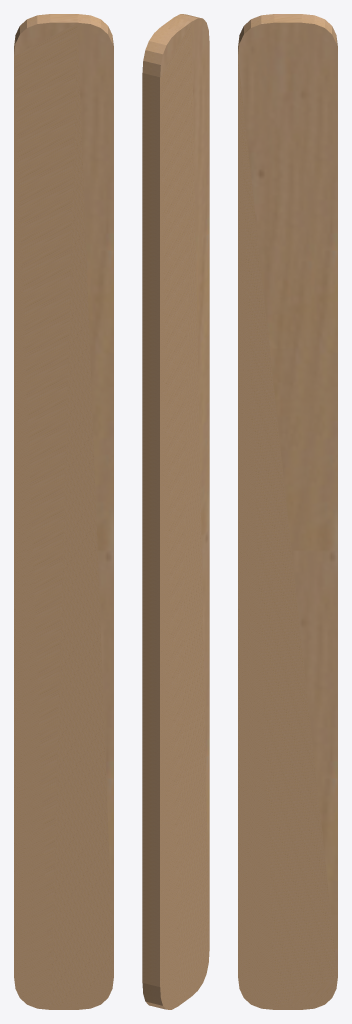
The model's file is PogoStick.FBX.
3 views of the same model, side by side, from view 1: azimuth 90°, elevation 25°; view 2: azimuth 150°, elevation 25°; view 3: azimuth 270°, elevation 25° (orthographic).
Visible parts, largest first — view 1: Box001; view 2: Box001; view 3: Box001.
Boxes of the visible parts, x1,y1,x2,y2 form: Box001: (14, 14, 113, 1009); Box001: (142, 14, 209, 1009); Box001: (238, 14, 337, 1009).
Bounding box in the file's own units: 2.12 × 112 × 10.23.
